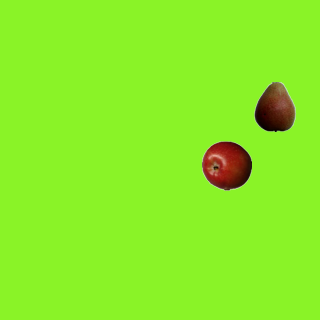Apple Braeburn: (201, 140, 251, 190)
Pear Forelle: (249, 81, 299, 131)
